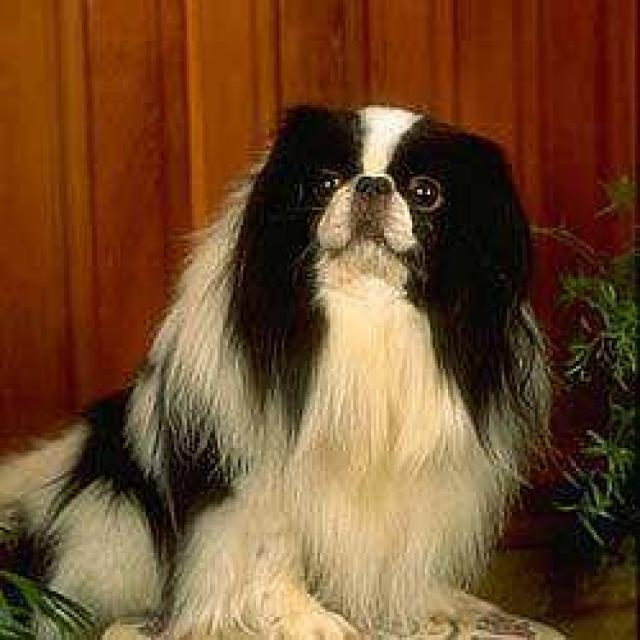husky: (0, 95, 563, 637)
